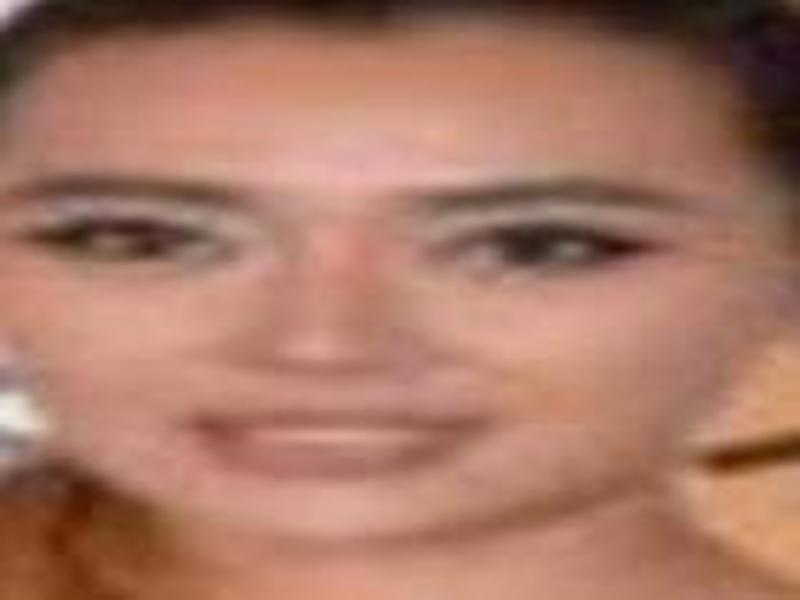without_mask: (6, 25, 793, 546)
